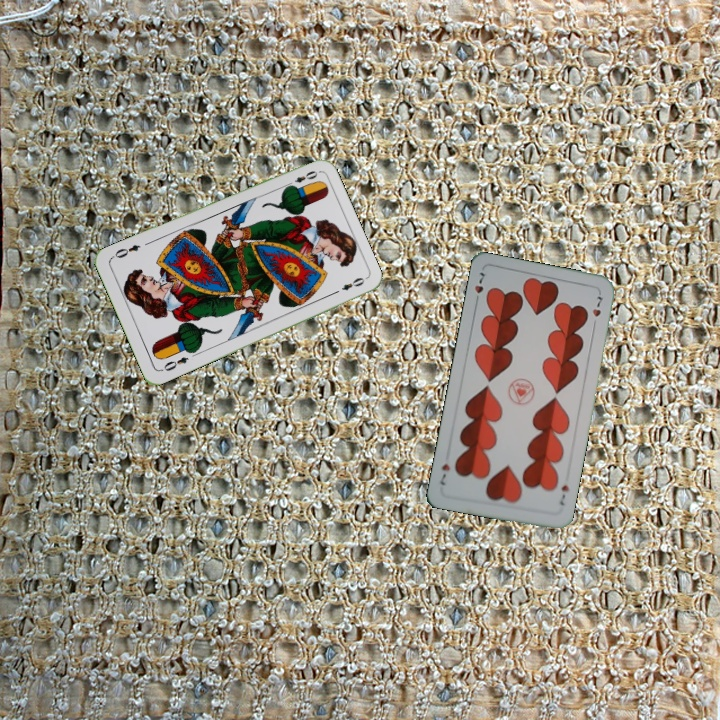EO: (282, 166, 320, 190), (157, 353, 191, 374)
H7: (470, 268, 487, 307), (555, 481, 571, 508)
